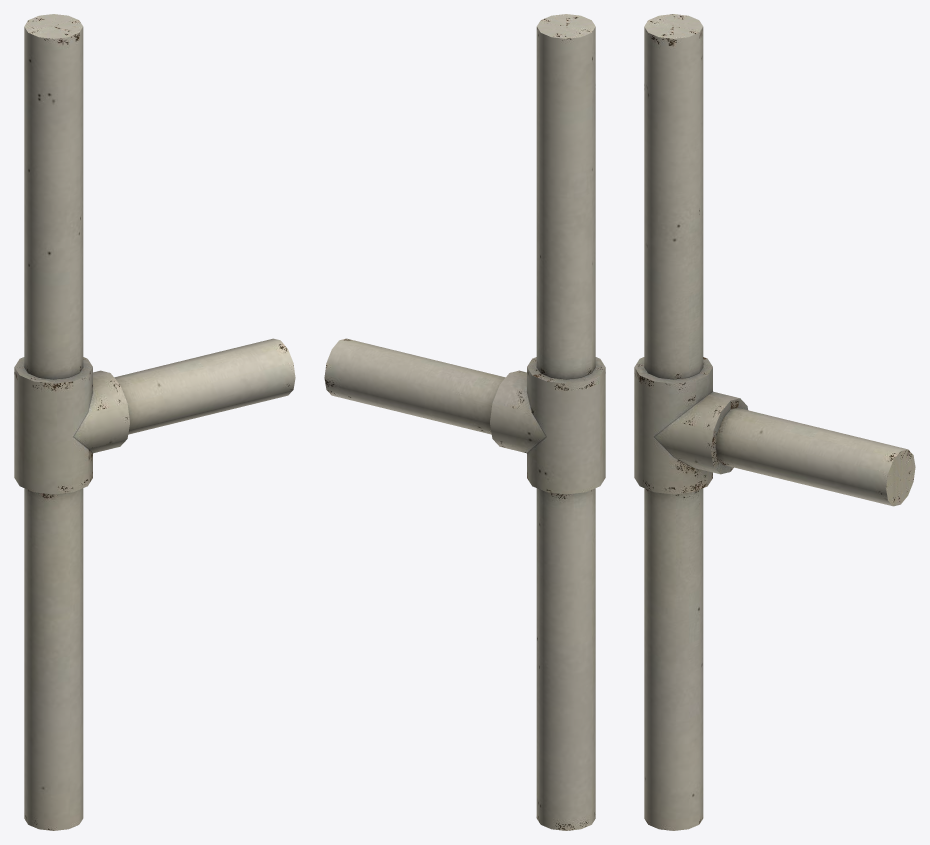
Rendered from pipe_tee_web.glb.
3 renders of one model, left to right at view 1: azimuth 30°, elevation 25°; view 2: azimuth 150°, elevation 25°; view 3: azimuth 330°, elevation 25°, orthographic.
Visible parts, largest first — view 1: PipeTee_Body; view 2: PipeTee_Body; view 3: PipeTee_Body.
Part boxes in pixels (x1=…): PipeTee_Body: x1=14, y1=14, x2=295, y2=830; PipeTee_Body: x1=324, y1=14, x2=605, y2=830; PipeTee_Body: x1=634, y1=14, x2=915, y2=830.
Bounding box in the file's own units: 0.138 × 0.4 × 0.036.
1 material, 1 textured.
